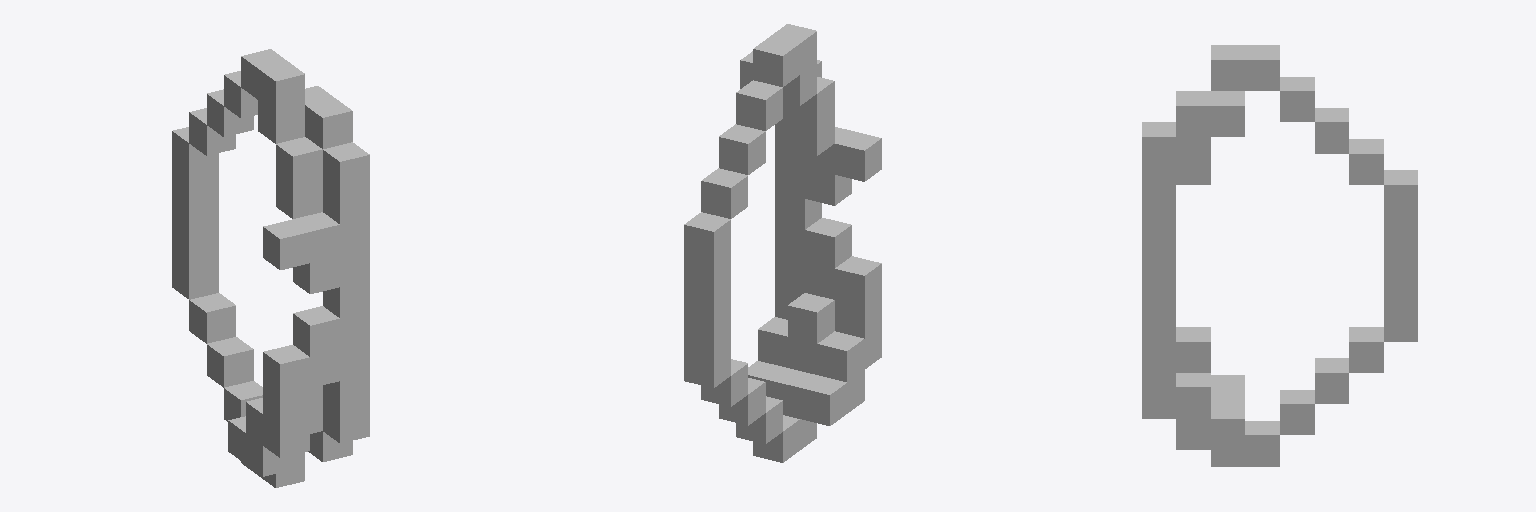
The model's file is BowPull4.obj.
The picture shows the model from 3 angles: view 1: azimuth 30°, elevation 25°; view 2: azimuth 150°, elevation 25°; view 3: azimuth 270°, elevation 25°; orthographic projection.
Visible parts, largest first — view 1: object 1; view 2: object 1; view 3: object 1.
Part boxes in pixels (bbox=[...]): object 1: bbox=[172, 49, 369, 487]; object 1: bbox=[684, 24, 881, 462]; object 1: bbox=[1142, 45, 1417, 466].
Bounding box in the file's own units: 0.3 × 1.3 × 0.8.